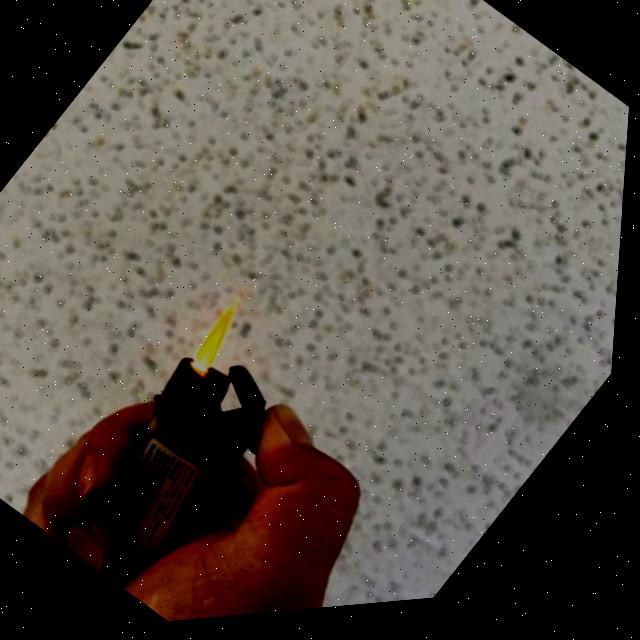Fire: (188, 303, 258, 380)
